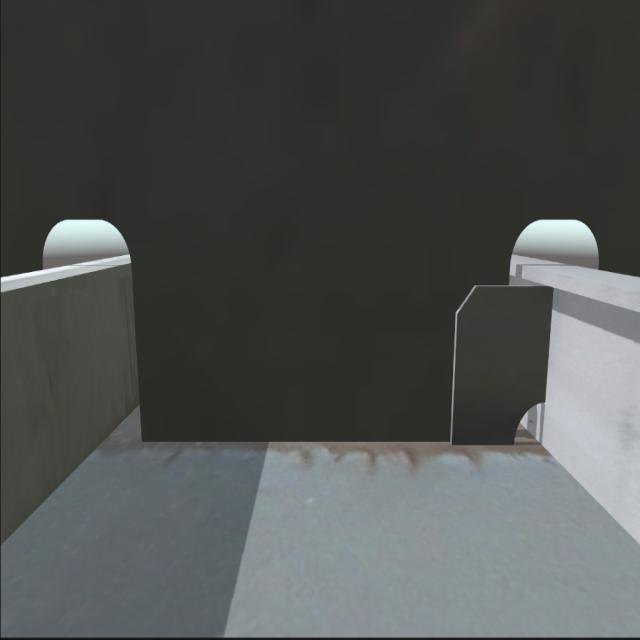fillet_hole: (507, 390, 552, 450)
fillet_yong_jeop_jang: (141, 426, 518, 450)
longi_yong_jeop_jang: (543, 281, 555, 403)
plate_CP03: (451, 282, 548, 449)
